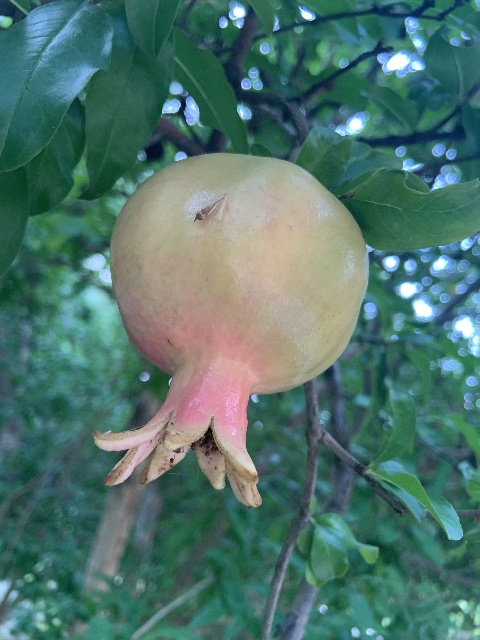mid-growth: (91, 154, 367, 504)
